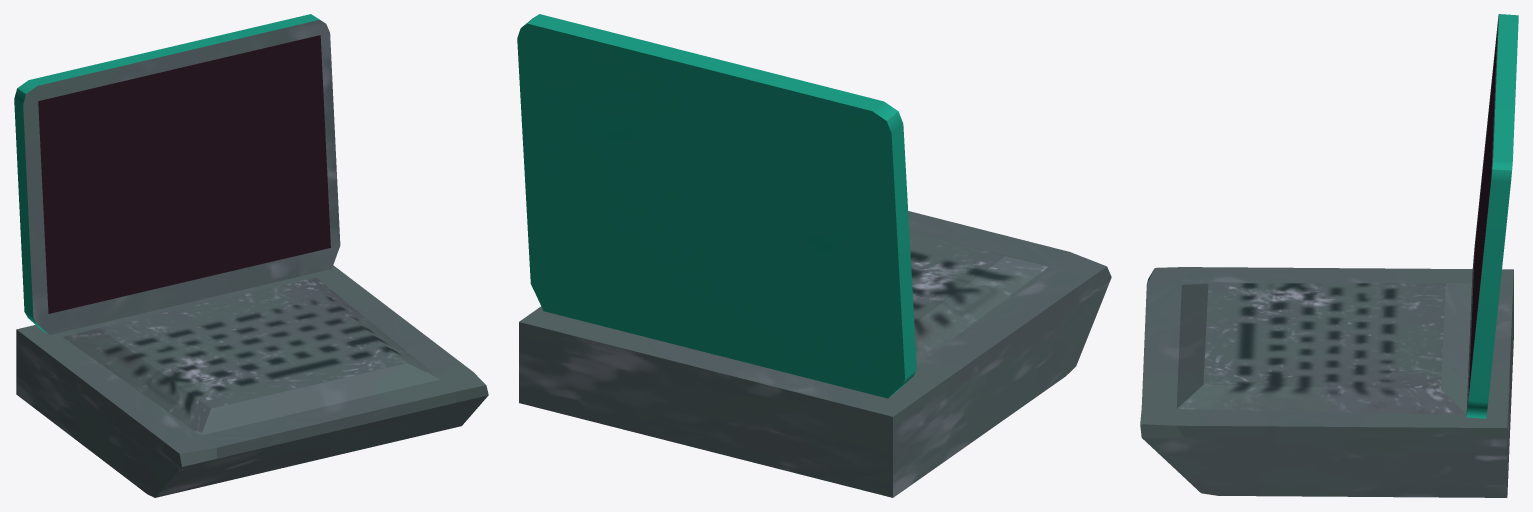
The model's file is Laptop.fbx.
3 views of the same model, side by side, from view 1: azimuth 30°, elevation 25°; view 2: azimuth 150°, elevation 25°; view 3: azimuth 270°, elevation 25° (orthographic). The views are drawn at different scales.
Parts seen in each view (by area): view 1: Laptop; view 2: Laptop; view 3: Laptop.
Part boxes in pixels (left/top/right/bottom): Laptop: left=14, top=14, right=488, bottom=497; Laptop: left=517, top=14, right=1111, bottom=497; Laptop: left=1140, top=14, right=1518, bottom=497.
Size of the model in its own units: 46.97 by 45.09 by 46.57.
